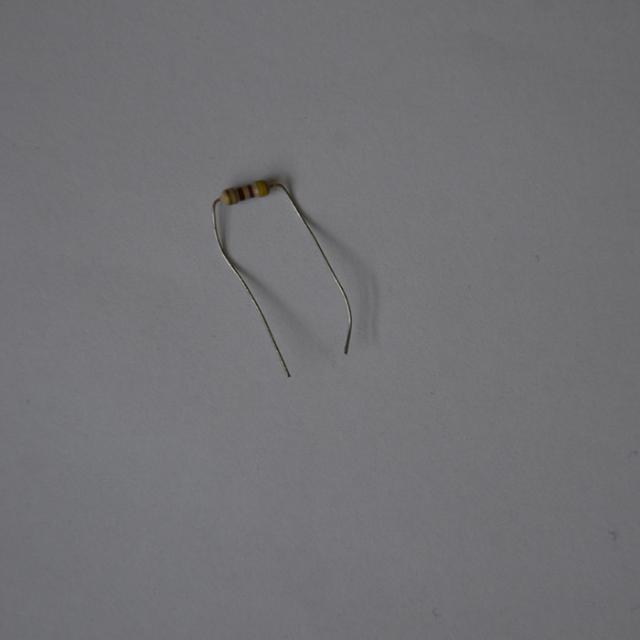brown: (237, 187, 245, 200)
gold: (225, 189, 233, 205)
resistor: (211, 173, 272, 209)
violet: (246, 186, 254, 197)
yellow: (257, 179, 267, 196)
